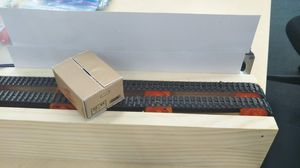box1: (52, 48, 125, 121)
